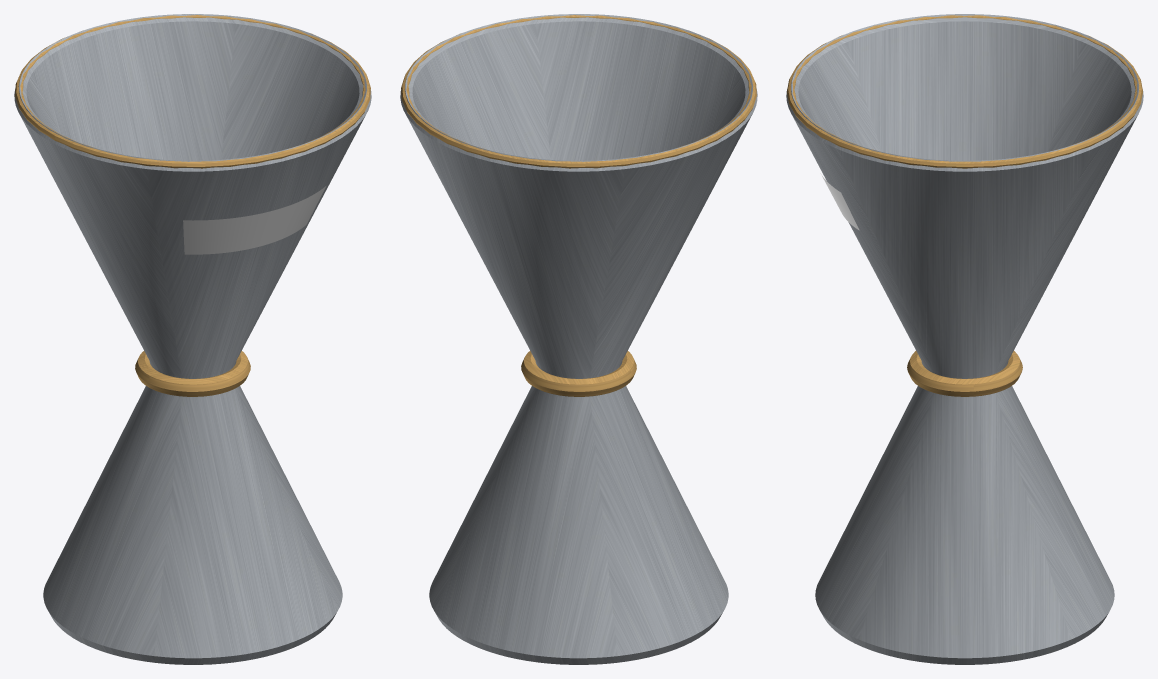
The model's file is preview.glb.
The picture shows the model from 3 angles, left to right: view 1: azimuth 30°, elevation 25°; view 2: azimuth 150°, elevation 25°; view 3: azimuth 270°, elevation 25°; orthographic projection.
Parts seen in each view (by area): view 1: DoubleJigger; view 2: DoubleJigger; view 3: DoubleJigger.
Part boxes in pixels (left/top/right/bottom): DoubleJigger: left=14, top=14, right=371, bottom=664; DoubleJigger: left=400, top=14, right=757, bottom=664; DoubleJigger: left=786, top=14, right=1143, bottom=664.
Bounding box in the file's own units: 0.074 × 0.118 × 0.074.
3 materials, 2 textured.
